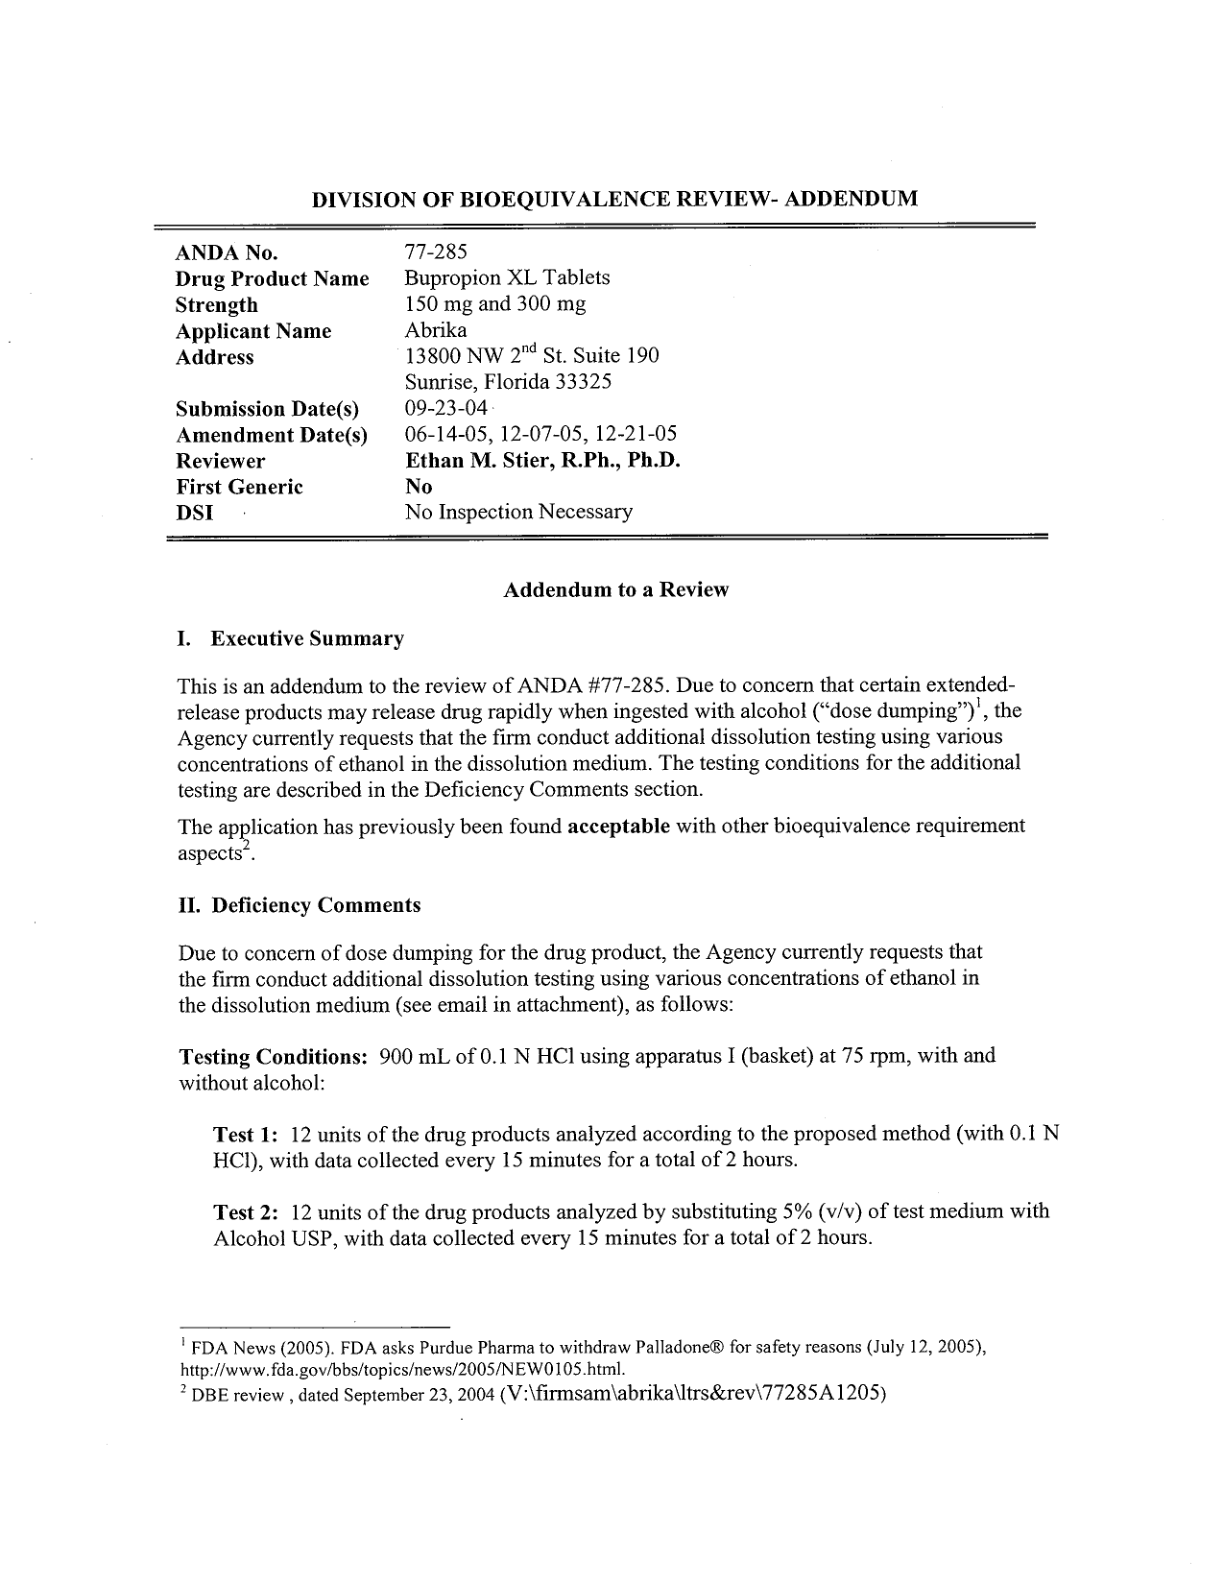partial_lined: (154, 221, 1048, 541)
